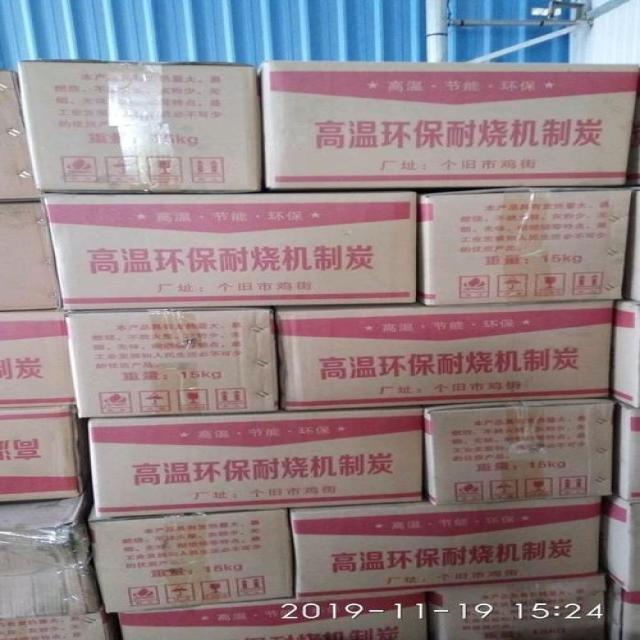box: (248, 62, 639, 187), (40, 189, 416, 314), (272, 300, 613, 410), (88, 408, 421, 516), (16, 61, 266, 192), (291, 494, 602, 593), (424, 185, 633, 305), (63, 308, 276, 416), (94, 507, 297, 613), (421, 399, 618, 505), (110, 585, 437, 638), (0, 497, 114, 638), (431, 573, 602, 638), (0, 399, 88, 503), (0, 305, 77, 402), (0, 197, 66, 310), (0, 69, 39, 203), (601, 493, 639, 595), (610, 298, 638, 409), (601, 570, 638, 638), (613, 408, 637, 500)
